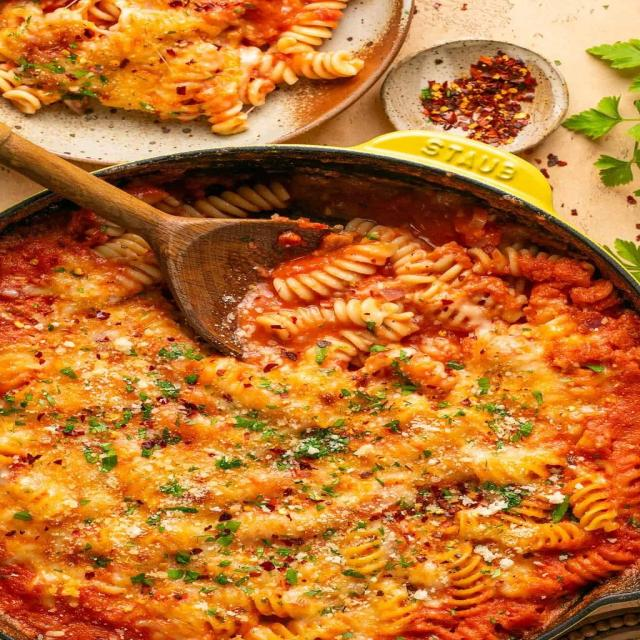pasta: (263, 199, 608, 640), (92, 25, 388, 141)
